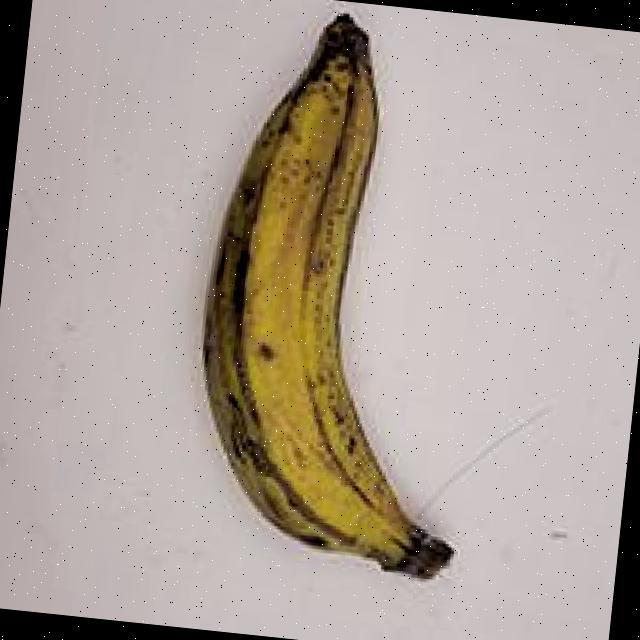Overripe: (115, 0, 519, 600)
